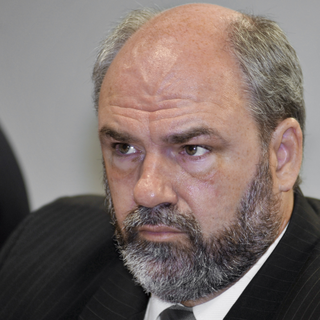eye: (171, 138, 221, 163), (102, 133, 144, 161)
